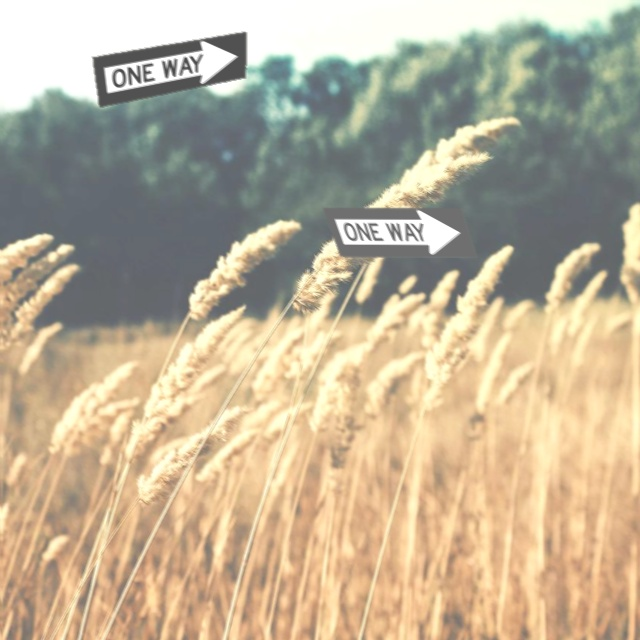ONE_WAY_ right: (91, 30, 246, 107), (321, 206, 476, 257)
